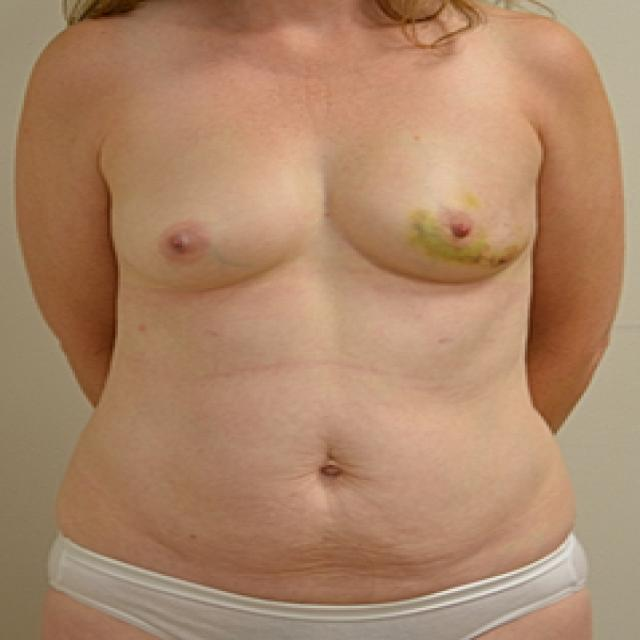Seno herido: (329, 111, 550, 299)
Seno ileso: (99, 111, 323, 304)
